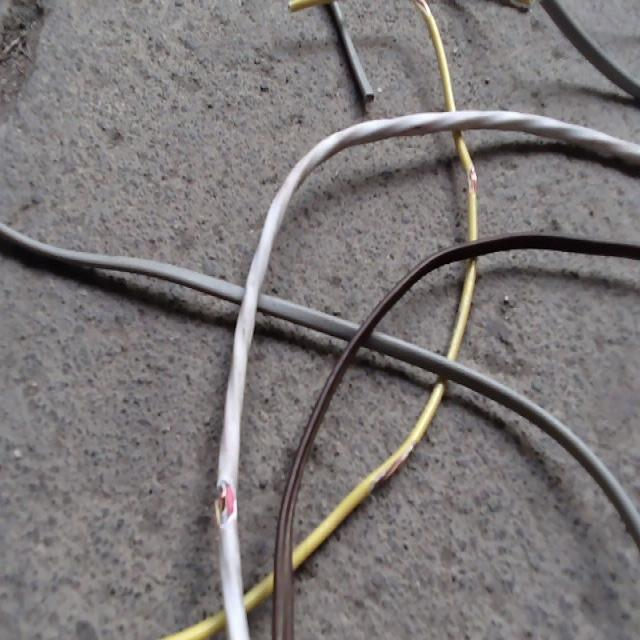-: (214, 478, 236, 530), (375, 447, 406, 480), (466, 164, 477, 196), (413, 0, 430, 16)
